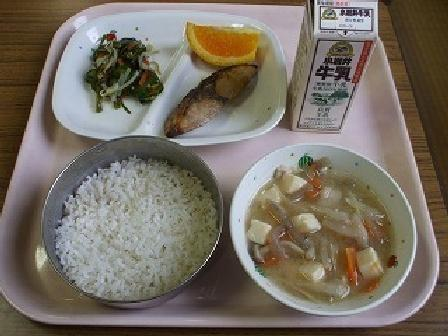Citrus: (180, 14, 269, 71)
Fish: (163, 62, 264, 142)
Milk: (283, 0, 384, 130)
Rice: (42, 143, 227, 308)
Salad: (72, 25, 166, 110)
Soups: (232, 143, 419, 314)
